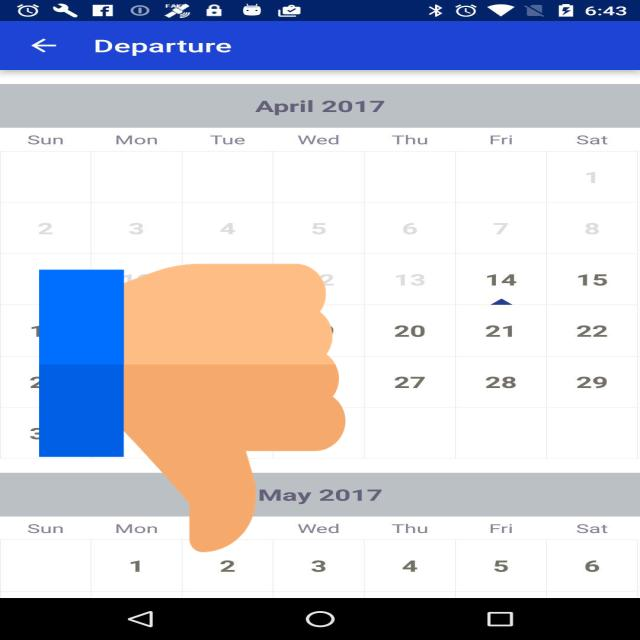obstruction: (39, 257, 346, 559)
